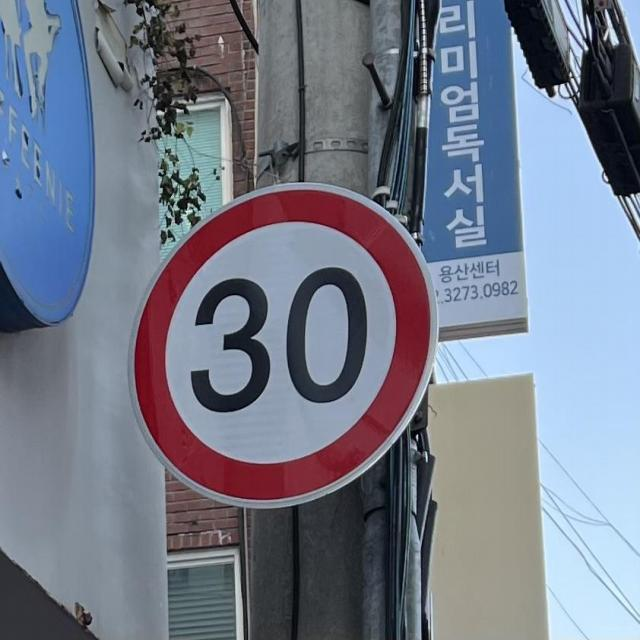Ograniczenie predkosci do 30: (126, 180, 435, 513)
